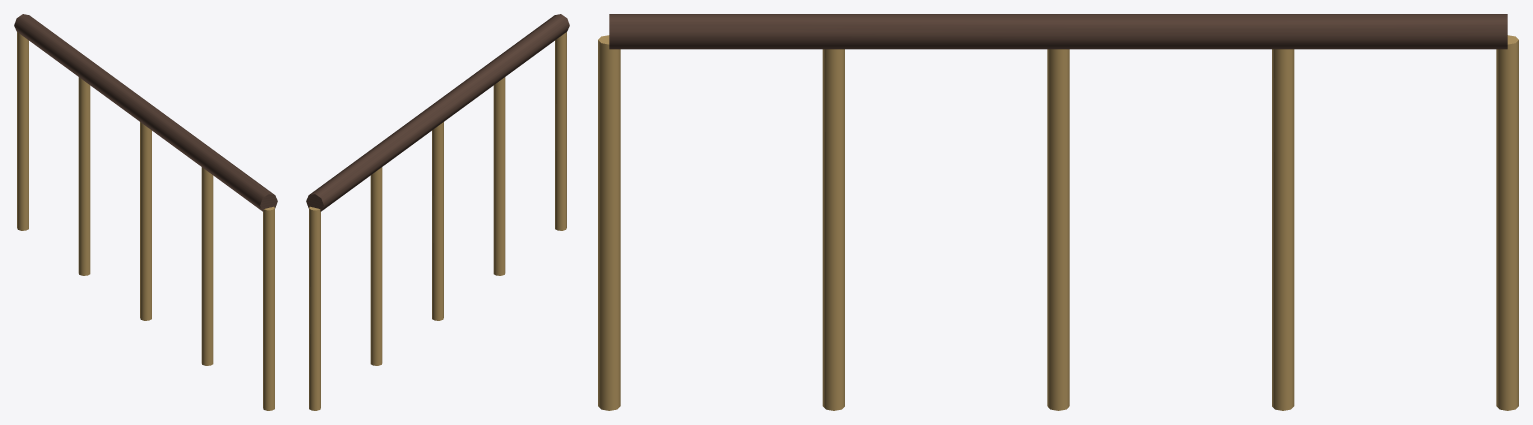
The model's file is detail-railing.glb.
The picture shows the model from 3 angles, left to right: view 1: azimuth 30°, elevation 25°; view 2: azimuth 150°, elevation 25°; view 3: azimuth 270°, elevation 25°; orthographic projection. The views are drawn at different scales.
Parts seen in each view (by area): view 1: detail-railing_gold, detail-railing_wood; view 2: detail-railing_gold, detail-railing_wood; view 3: detail-railing_gold, detail-railing_wood.
Part boxes in pixels (x1,y1,x2,y2): detail-railing_gold: (17, 32, 274, 410); detail-railing_wood: (14, 14, 277, 211); detail-railing_gold: (309, 32, 566, 410); detail-railing_wood: (306, 14, 569, 211); detail-railing_gold: (598, 35, 1518, 410); detail-railing_wood: (609, 14, 1507, 49).
Bounding box in the file's own units: 0.084 × 0.962 × 2.05.
2 materials, 1 textured.
